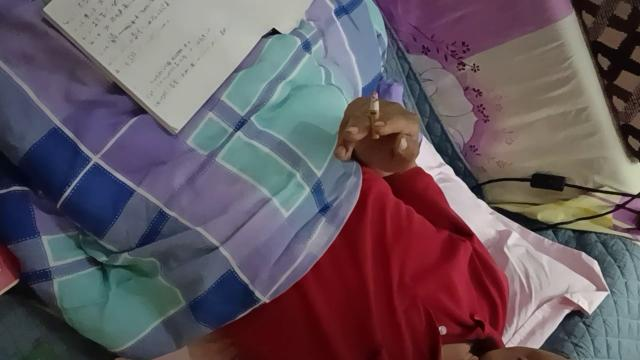Cigarette: (370, 90, 380, 139)
